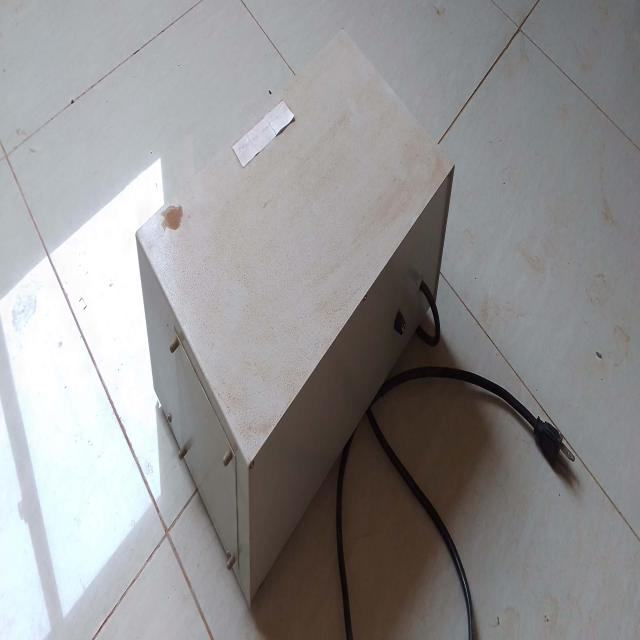Frank-Hertz Experiment Apparatus: (130, 35, 468, 591)
